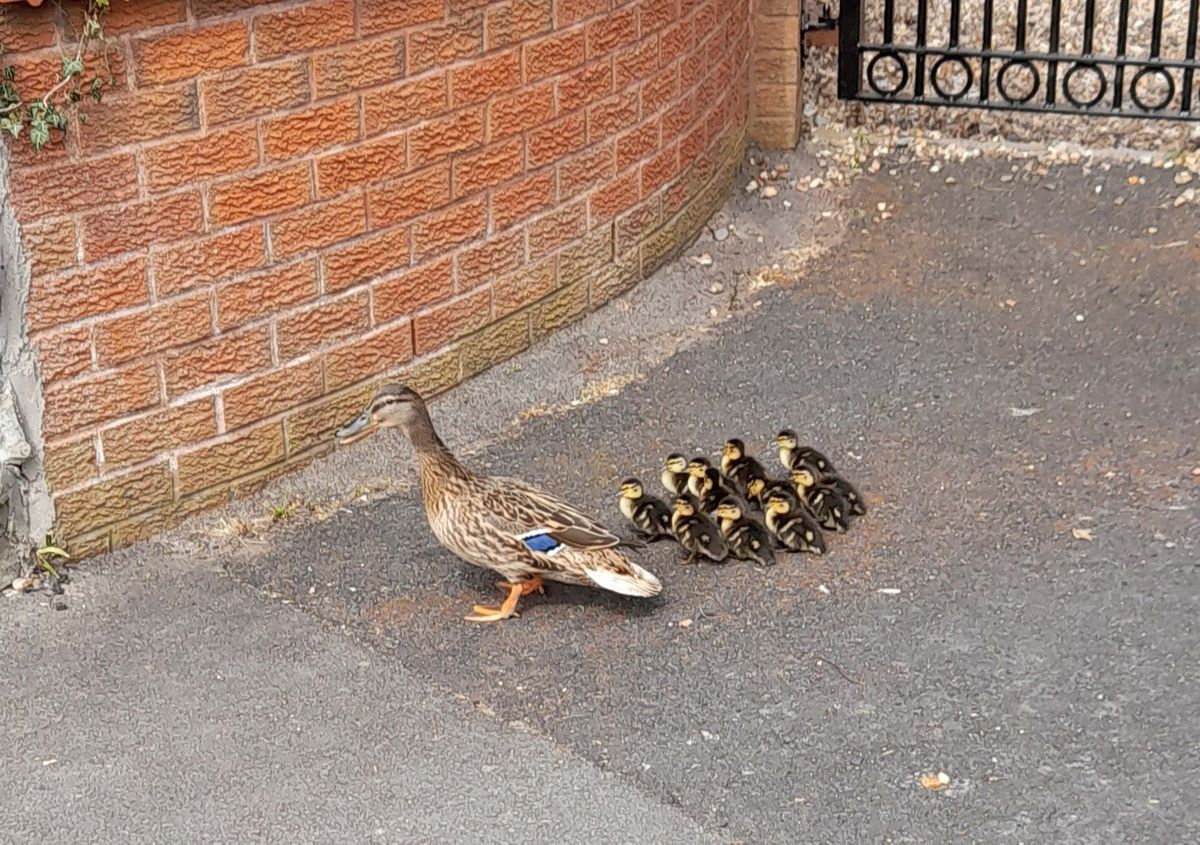duck: (321, 387, 673, 629)
duckling: (788, 464, 856, 537), (612, 475, 682, 544), (770, 429, 847, 491), (672, 501, 736, 567), (719, 437, 779, 503), (661, 454, 724, 507), (724, 514, 779, 571)
